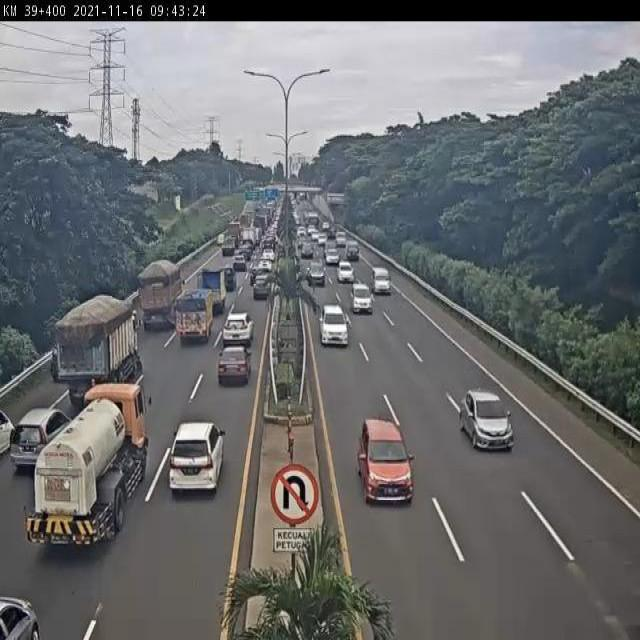car: (355, 416, 416, 508), (456, 380, 517, 461), (11, 404, 78, 475), (167, 418, 226, 498), (313, 293, 356, 356), (0, 590, 46, 640), (212, 344, 255, 395), (222, 309, 258, 356), (347, 277, 378, 323), (0, 391, 20, 457), (247, 268, 276, 304), (370, 264, 398, 299), (308, 258, 331, 290), (219, 264, 240, 296), (335, 256, 355, 288), (246, 264, 267, 291), (229, 251, 248, 276), (208, 231, 228, 252), (257, 260, 275, 281)
small truck: (171, 287, 218, 349), (193, 262, 231, 318)
truck-m-: (28, 378, 172, 574), (51, 297, 141, 404), (124, 262, 192, 338)
